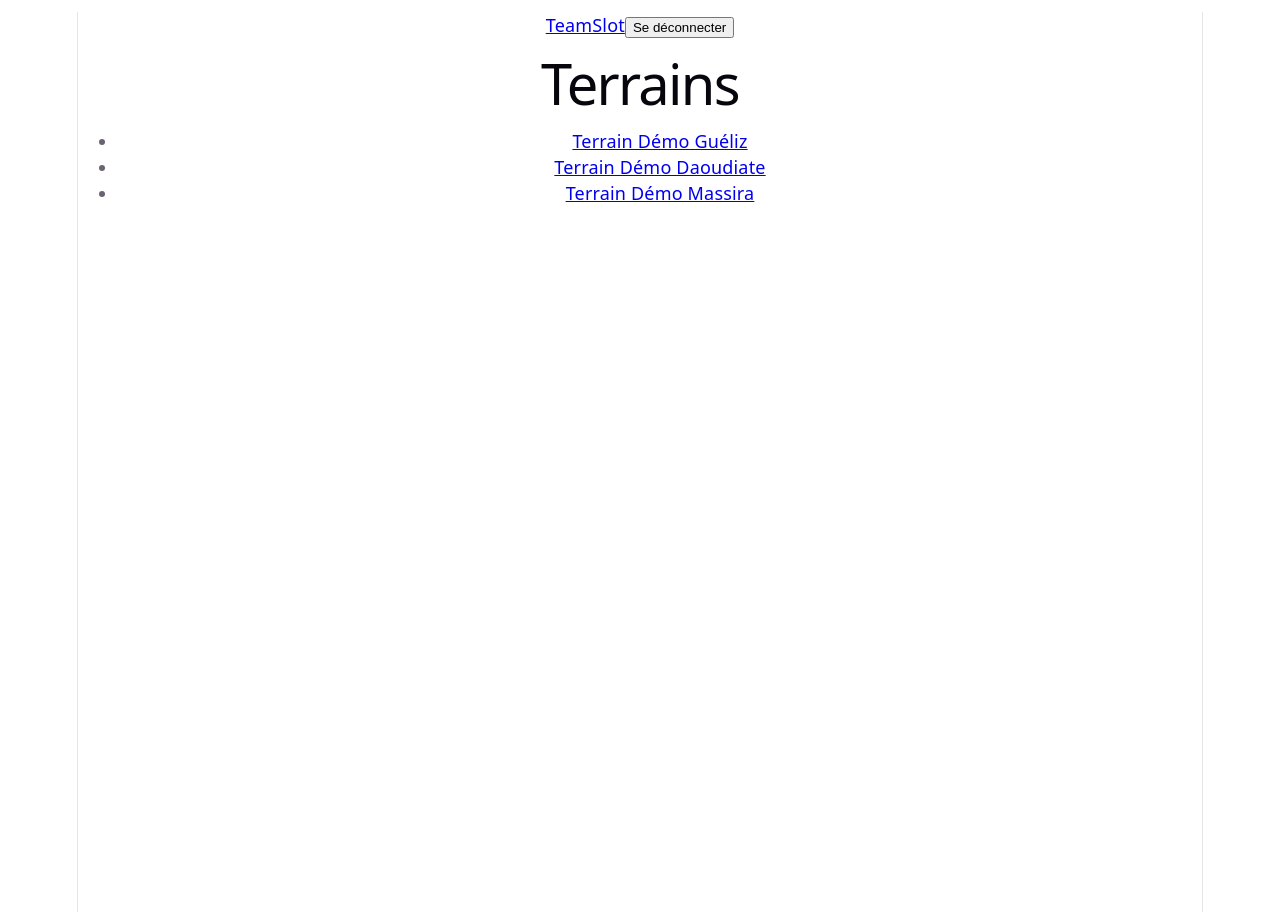
Test: accès et déconnexion › « Se déconnecter » efface le jeton et revient à la connexion
Expected: the heading "Terrains" is shown, [541,45,739,121]
Click the button "Se déconnecter" at (680,28), box [625,17,734,38]
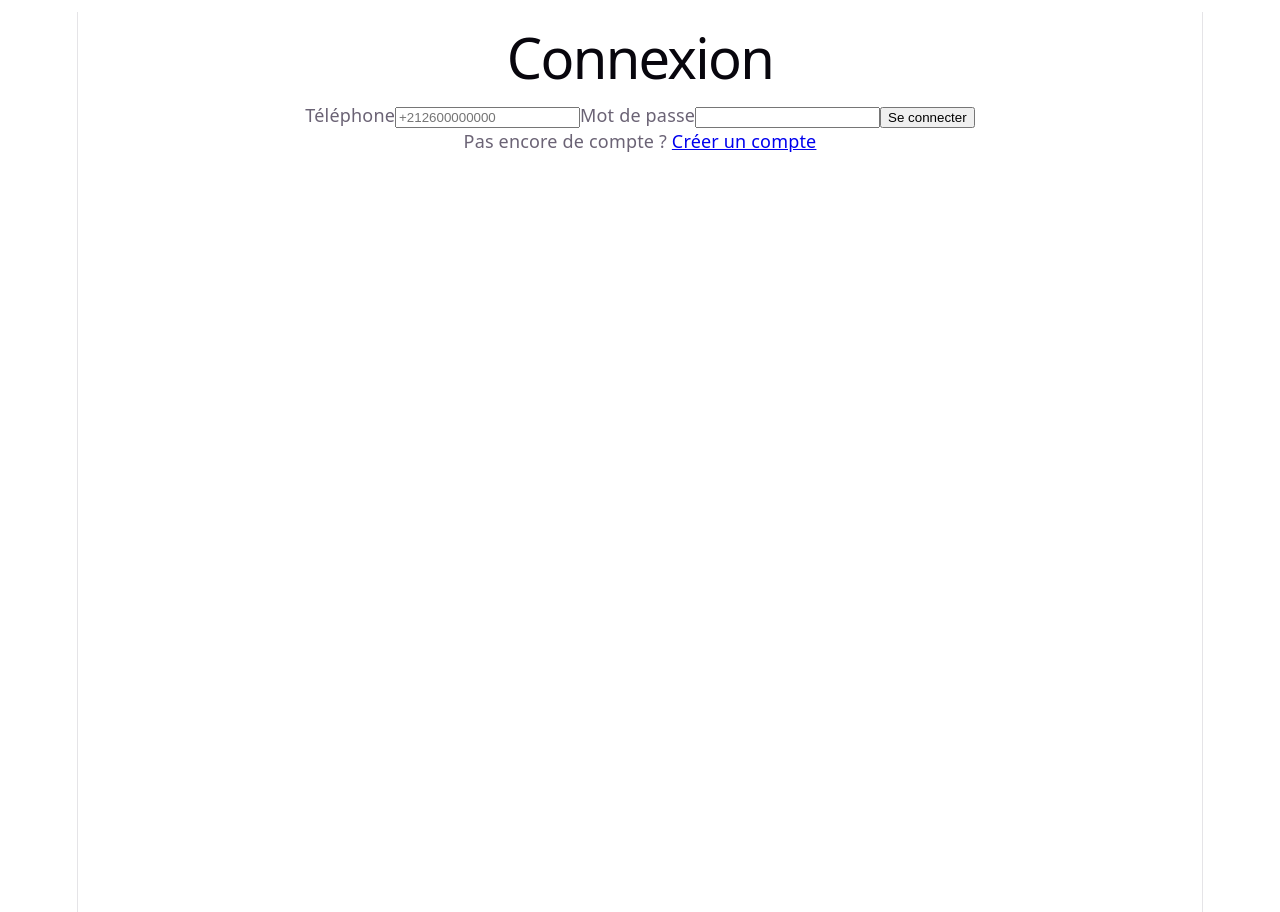
Now the heading "Connexion" is shown, box [507,19,773,95]
